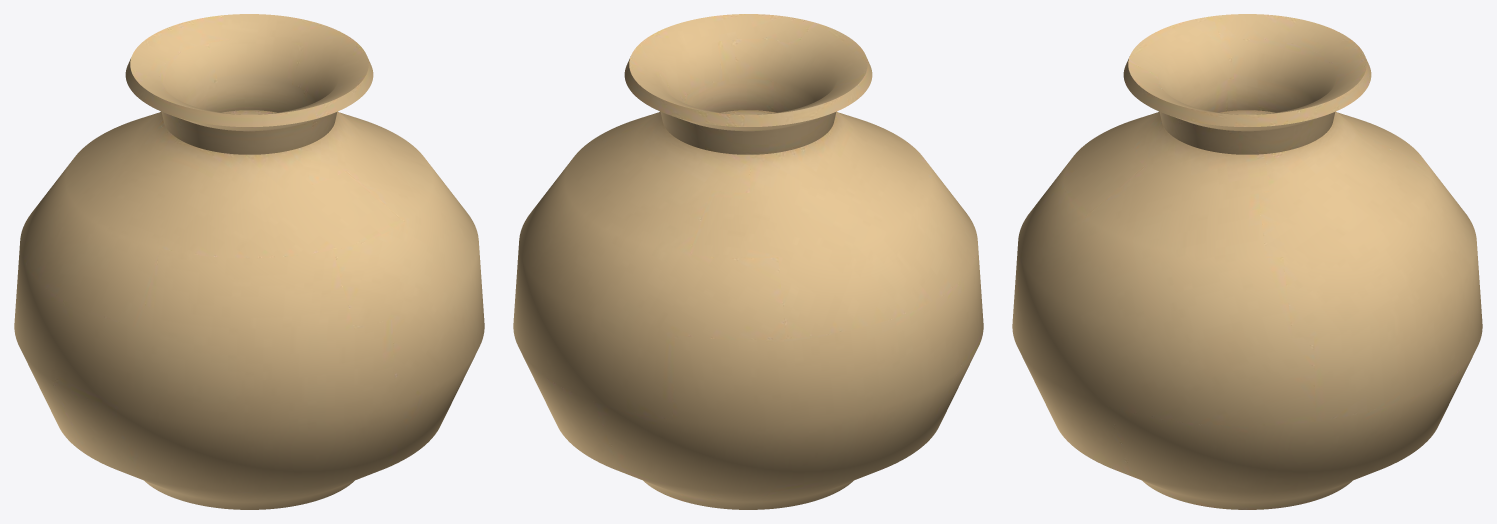
Rendered from vessel.glb.
3 renders of one model, left to right at view 1: azimuth 30°, elevation 25°; view 2: azimuth 150°, elevation 25°; view 3: azimuth 270°, elevation 25°, orthographic.
Parts seen in each view (by area): view 1: vessel; view 2: vessel; view 3: vessel.
Boxes of the visible parts, bbox=[...] form: vessel: bbox=[14, 14, 484, 509]; vessel: bbox=[513, 14, 983, 509]; vessel: bbox=[1012, 14, 1482, 509].
Bounding box in the file's own units: 0.41 × 0.382 × 0.41.
Materials: 1 (1 with a texture image).
